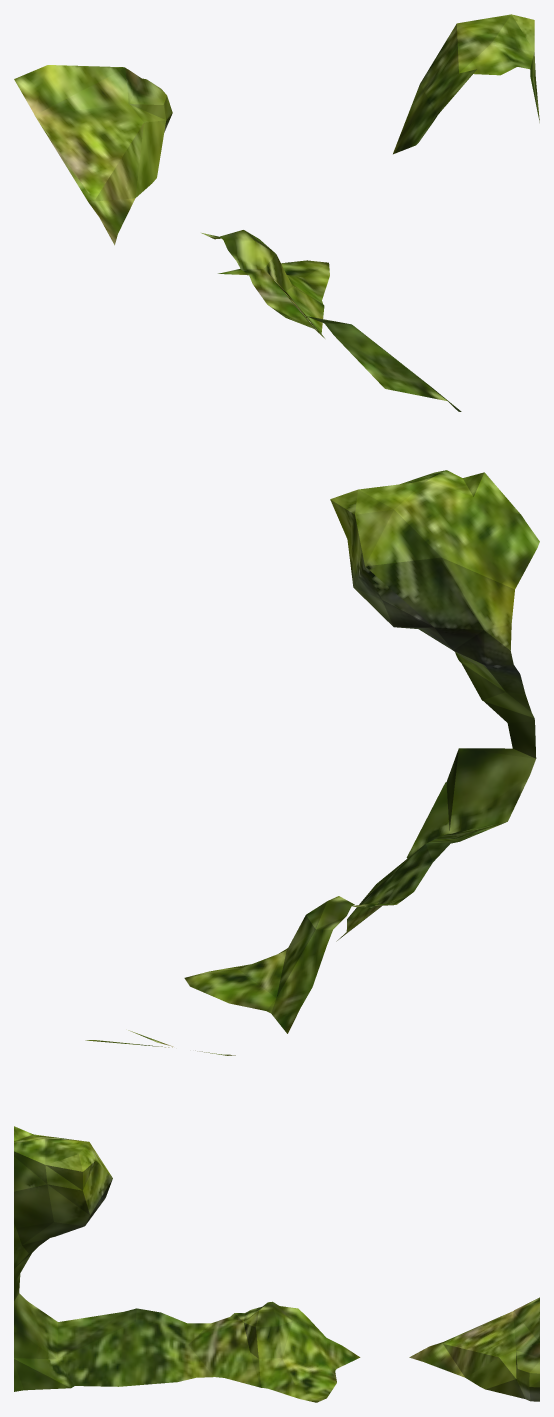
3 views of the same model, one above another, from view 1: azimuth 30°, elevation 25°; view 2: azimuth 150°, elevation 25°; view 3: azimuth 270°, elevation 25° (orthographic). The views are drawn at different scales.
Bounding box in the file's own units: 0.2016 × 0.439 × 0.8374.
Materials: 1 (1 with a texture image).
